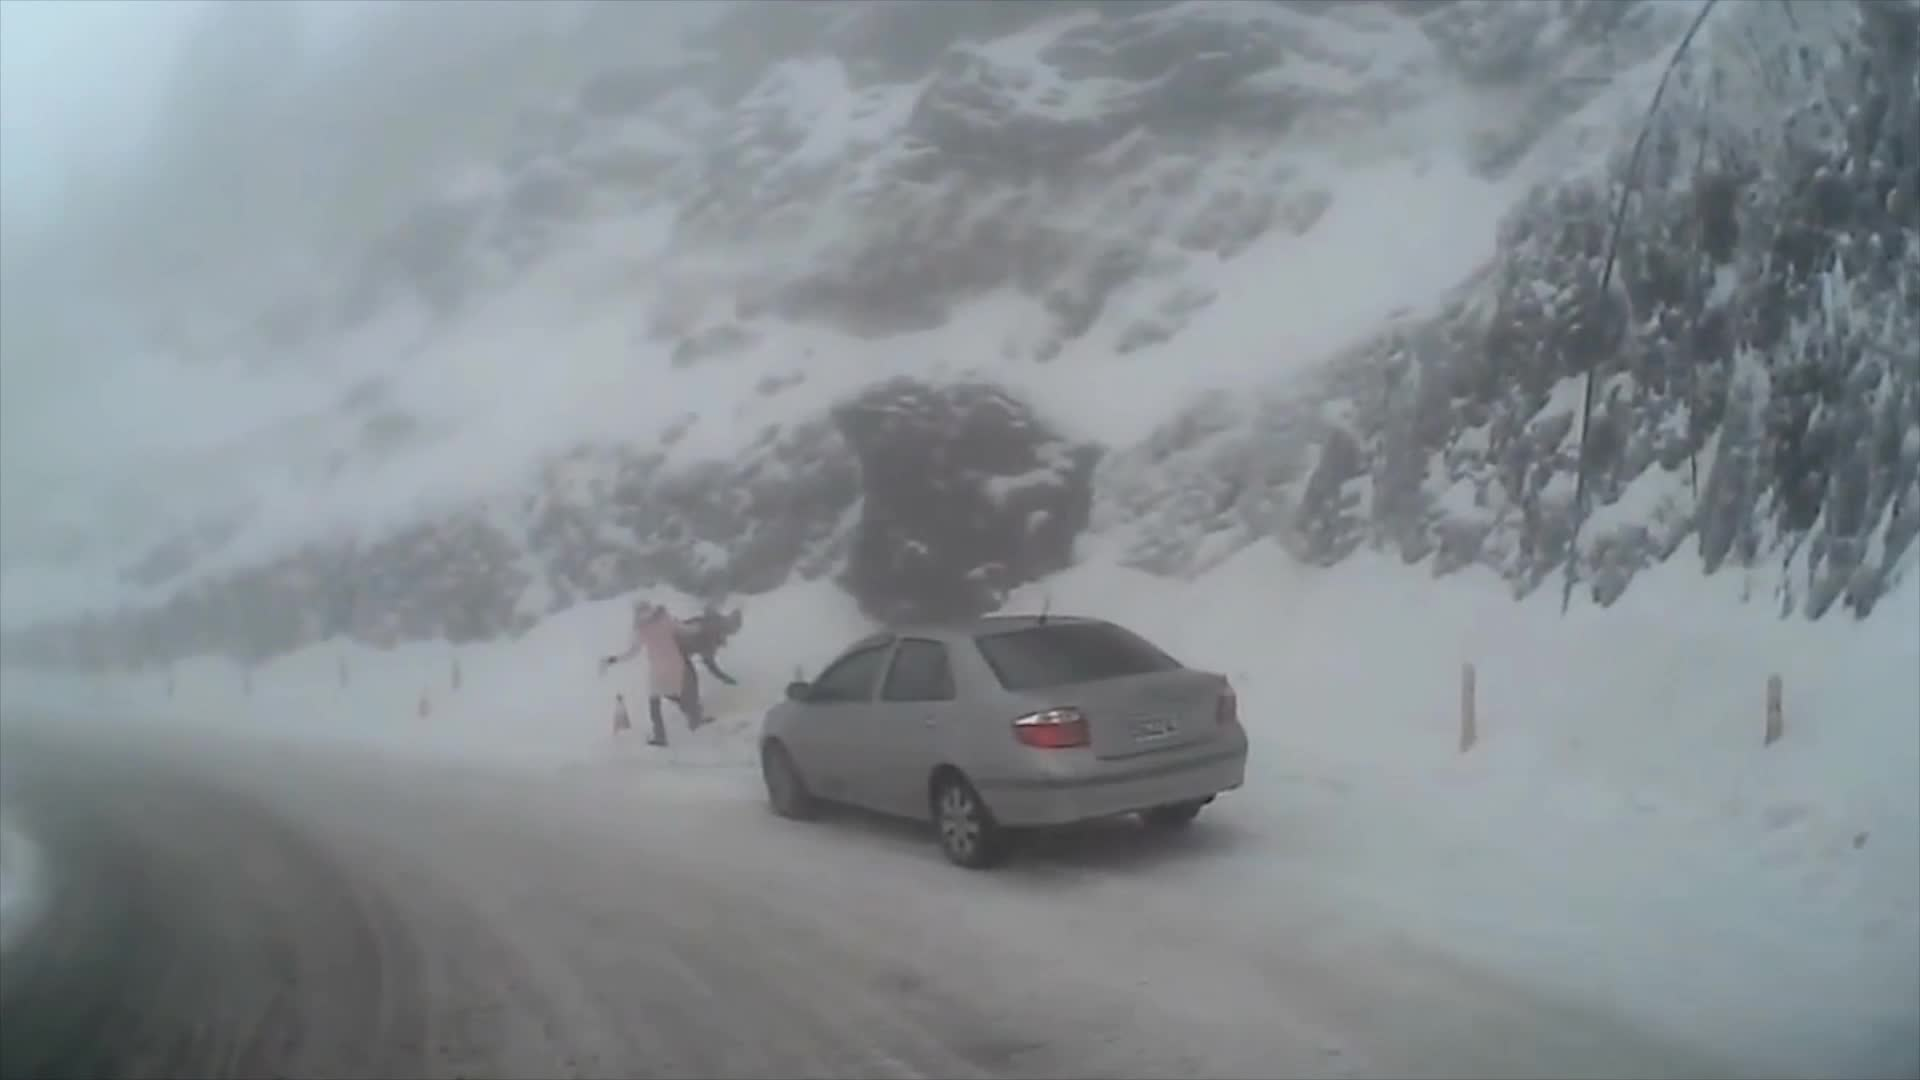pedestrian: (598, 600, 711, 748)
vehicle: (758, 613, 1247, 872)
